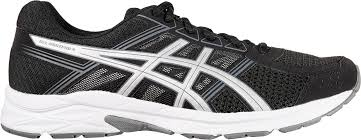shoe: (3, 1, 360, 140)
